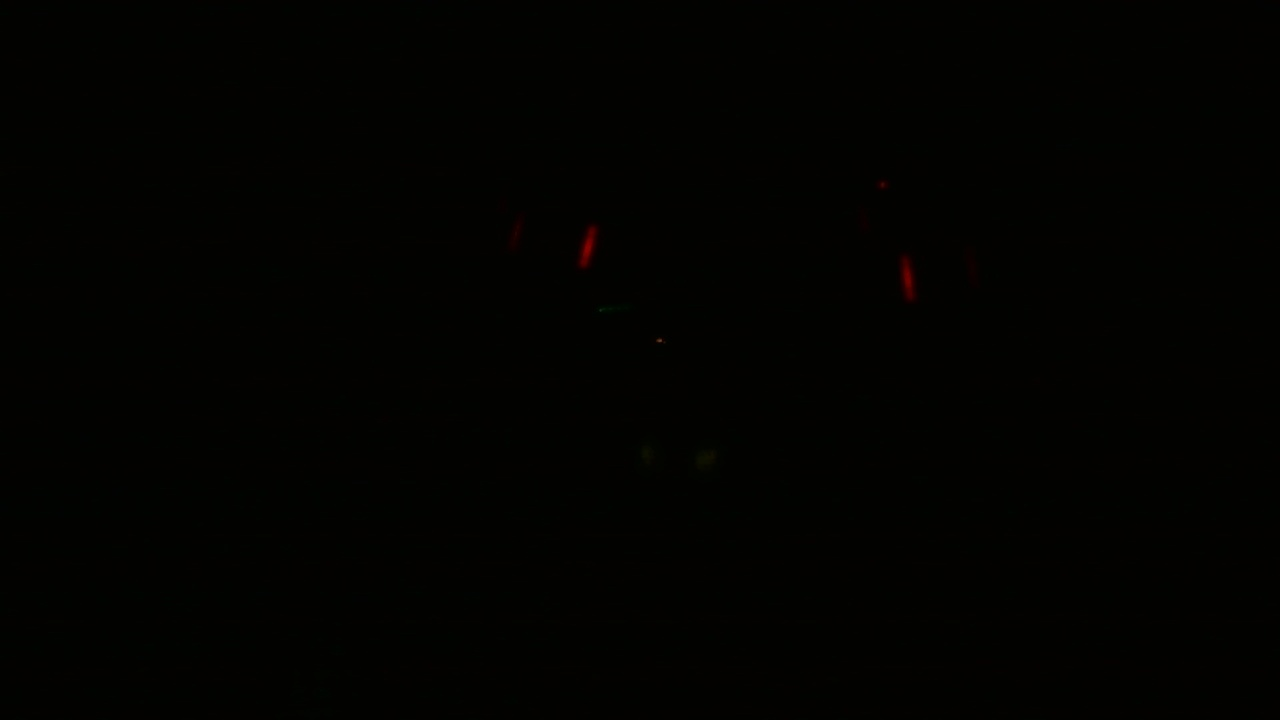pair1: (895, 249, 924, 308)
